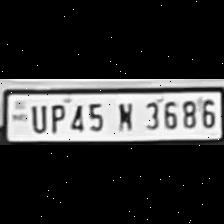3: (140, 97, 160, 130)
4: (66, 100, 86, 132)
5: (84, 100, 107, 132)
6: (198, 96, 218, 128), (160, 97, 178, 130)
8: (178, 96, 196, 130)
N: (110, 98, 138, 132)
P: (46, 101, 66, 133)
U: (26, 101, 48, 133)
